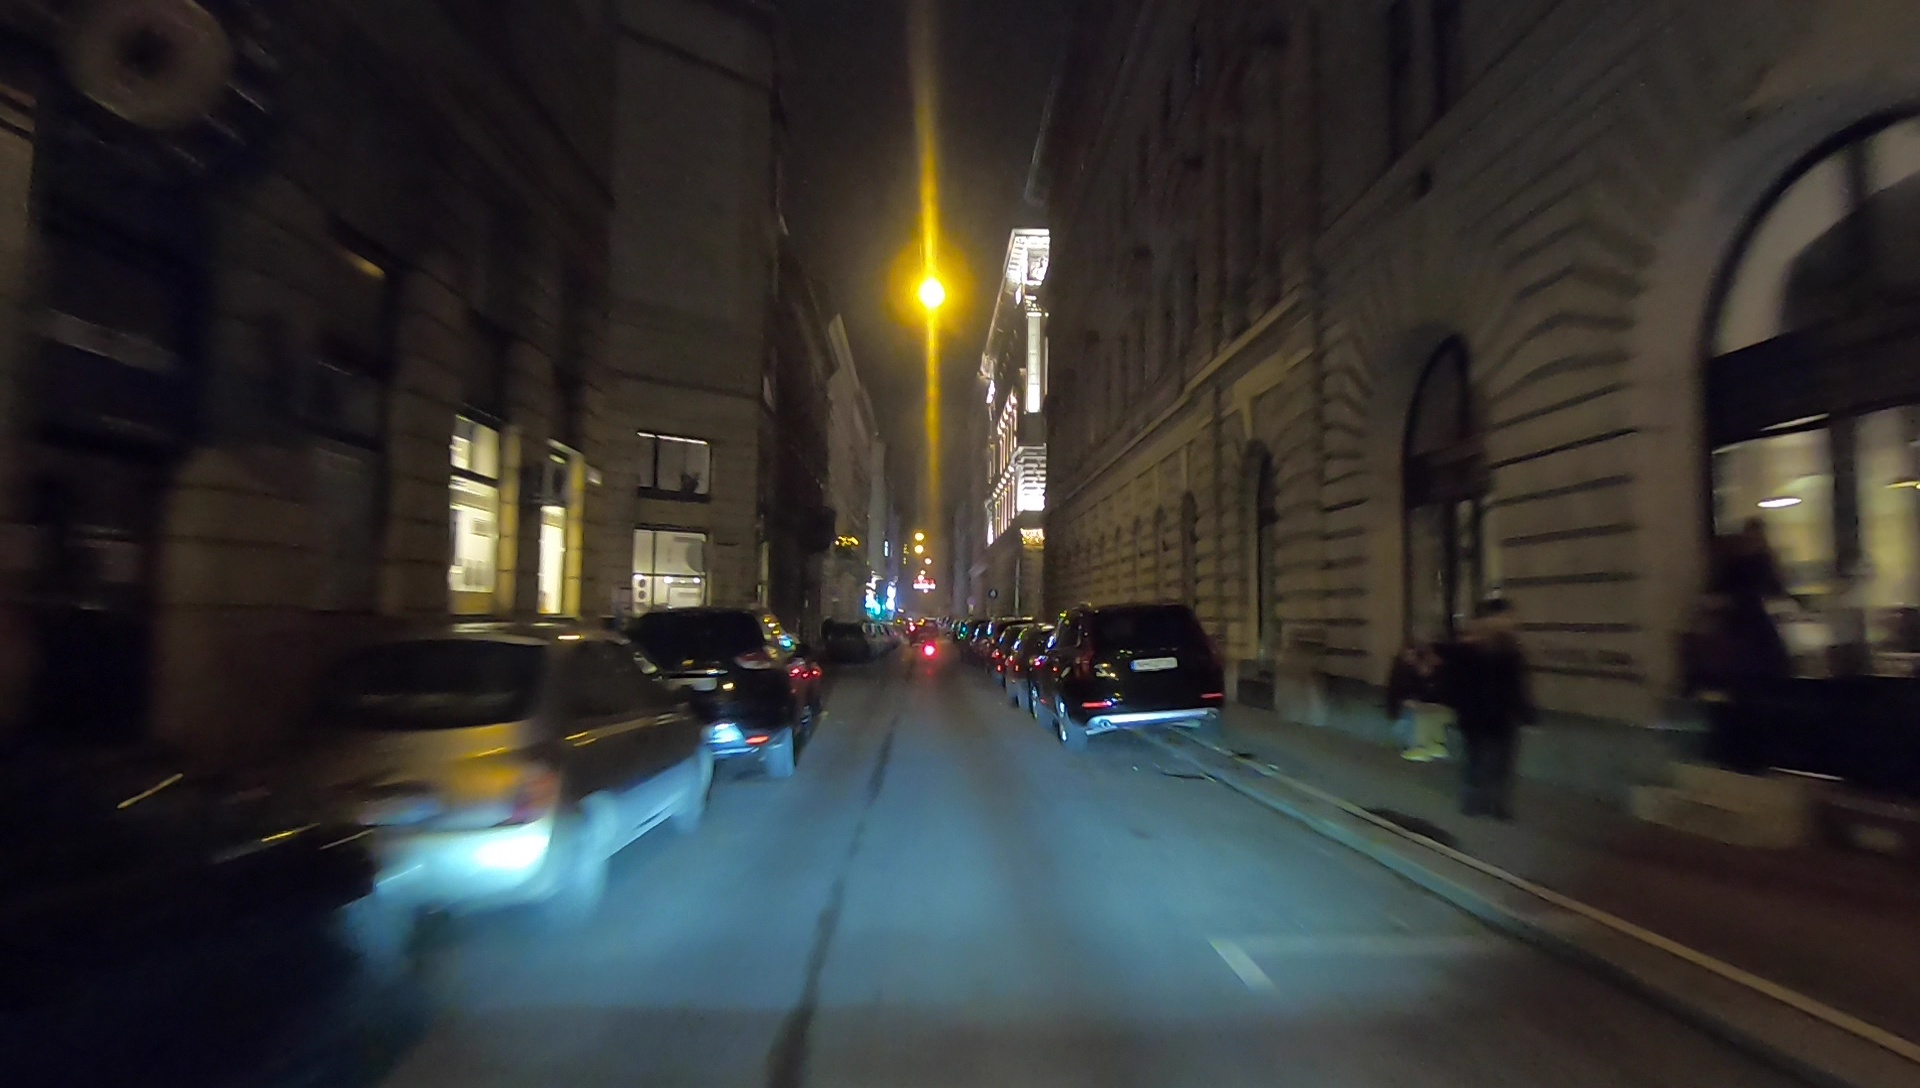person: (1699, 511, 1795, 769), (1454, 610, 1526, 826), (1397, 649, 1452, 771)
